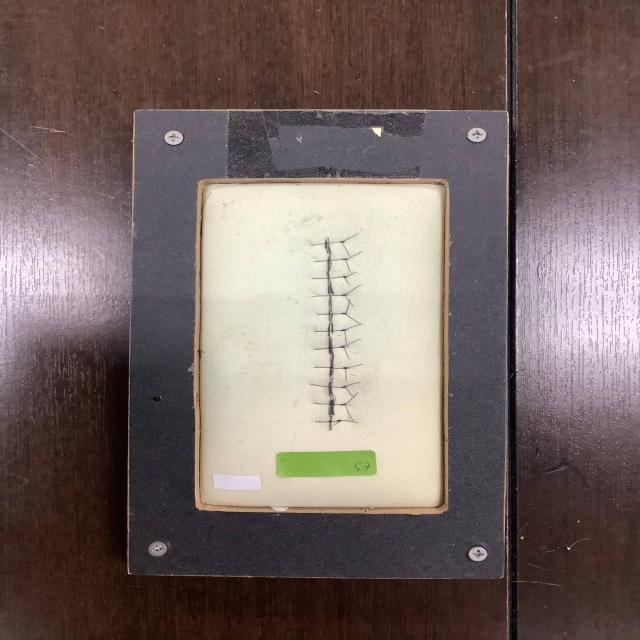knot: (338, 402, 349, 408), (338, 384, 349, 390), (337, 344, 348, 350), (338, 292, 349, 298), (334, 418, 344, 424), (340, 365, 350, 371), (340, 274, 350, 280), (338, 328, 349, 333), (339, 257, 350, 262), (338, 239, 347, 245), (339, 311, 349, 316)
leftover: (343, 403, 355, 423), (344, 312, 362, 325), (344, 284, 362, 295), (344, 392, 359, 405), (345, 250, 363, 260), (342, 338, 360, 347), (342, 233, 359, 242), (344, 386, 356, 398), (344, 323, 362, 331), (344, 294, 355, 307), (341, 241, 350, 256), (327, 420, 341, 428), (342, 346, 350, 360), (344, 298, 351, 314), (344, 381, 362, 387), (345, 363, 363, 369), (339, 419, 359, 424), (343, 329, 348, 349), (345, 258, 351, 273), (345, 271, 357, 278), (344, 276, 351, 286), (344, 367, 348, 383)
stitch: (310, 383, 347, 388), (311, 241, 346, 246), (314, 258, 348, 263), (311, 276, 347, 280), (315, 419, 349, 423), (313, 402, 347, 406), (313, 346, 345, 350), (314, 329, 346, 333), (312, 366, 349, 369), (314, 294, 347, 297), (317, 313, 347, 315)
wound: (325, 240, 333, 430)
